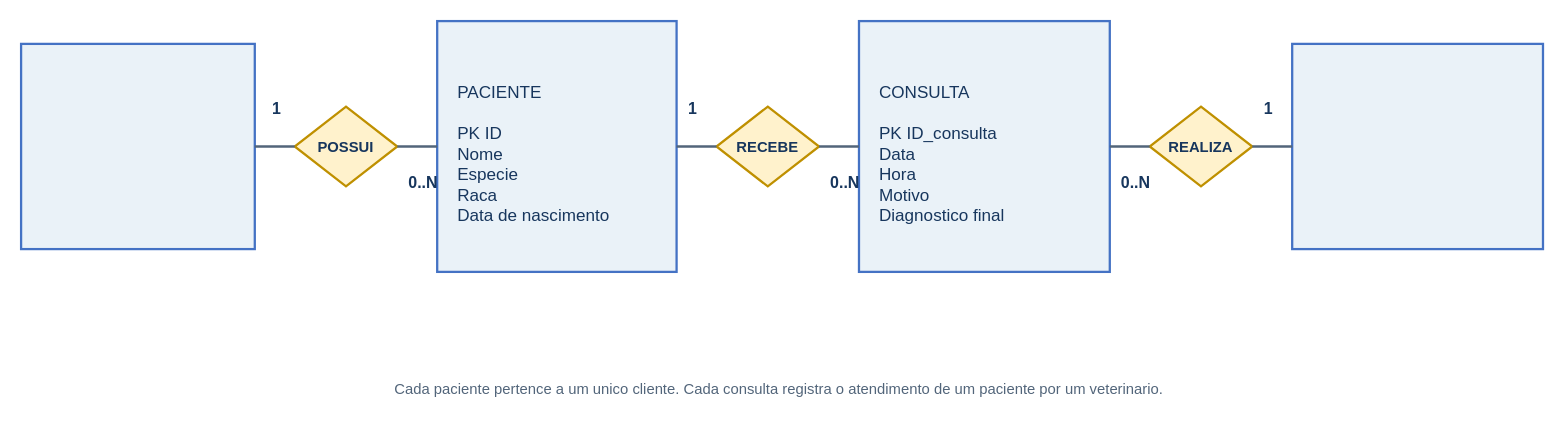
The diagram is 1563 pixels wide and 433 high, and some of its shapes have lost their labels. The shapes that lost their labels are listed below. From the top down, each one's centre as x and y in pixels, then its label:
At point 137,146: "CLIENTE PK CPF Nome Endereco Telefone".
At point 1417,146: "VETERINARIO PK CRMV Nome Especialidade Telefone".
